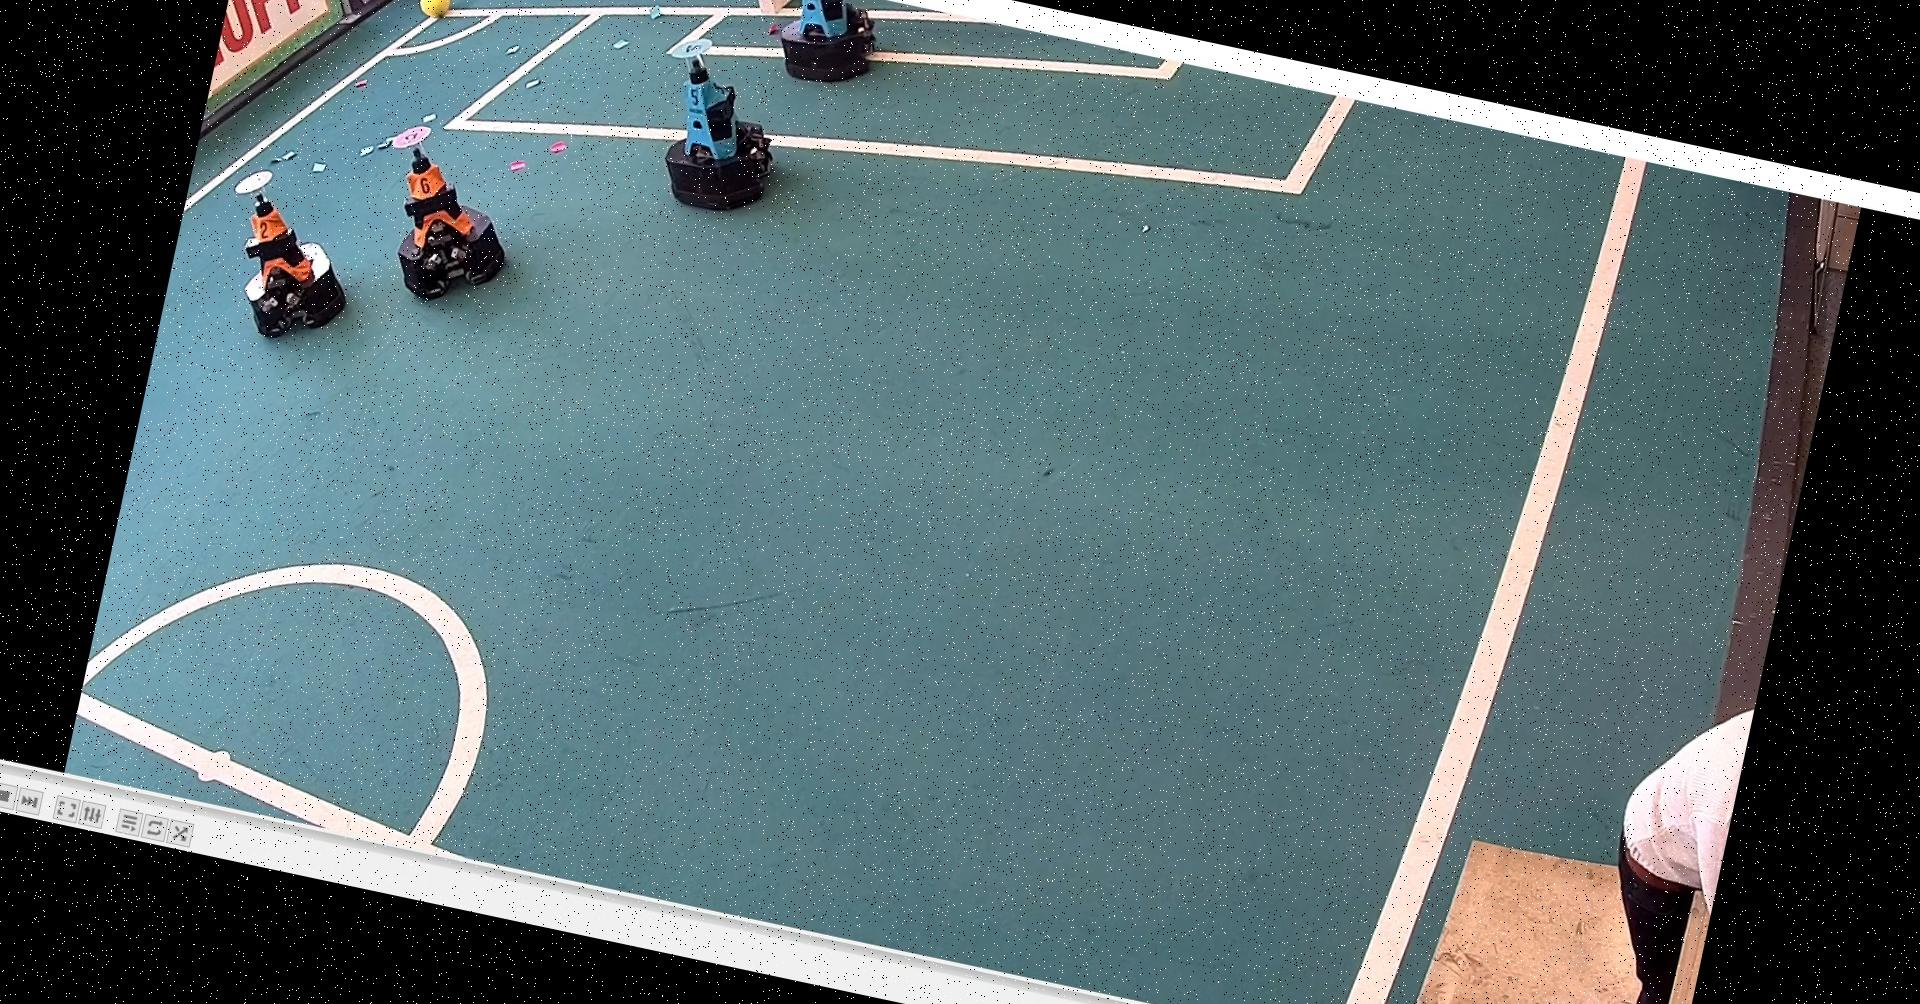Ball: (424, 0, 465, 22)
Team_Blue: (639, 23, 813, 227), (756, 0, 890, 104)
Team_Red: (356, 108, 535, 314), (202, 159, 373, 357)
